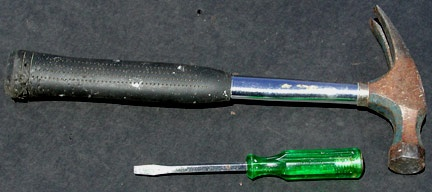hammer: (10, 6, 432, 160)
